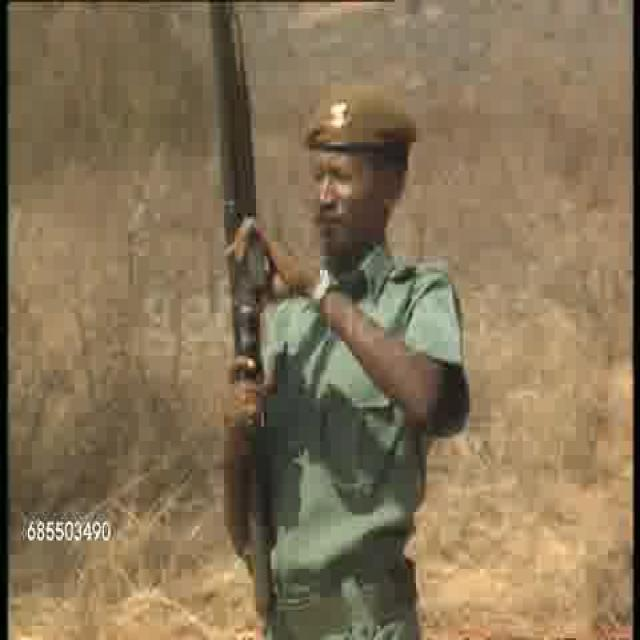poacher: (277, 56, 483, 572)
weapon: (206, 2, 274, 624)
